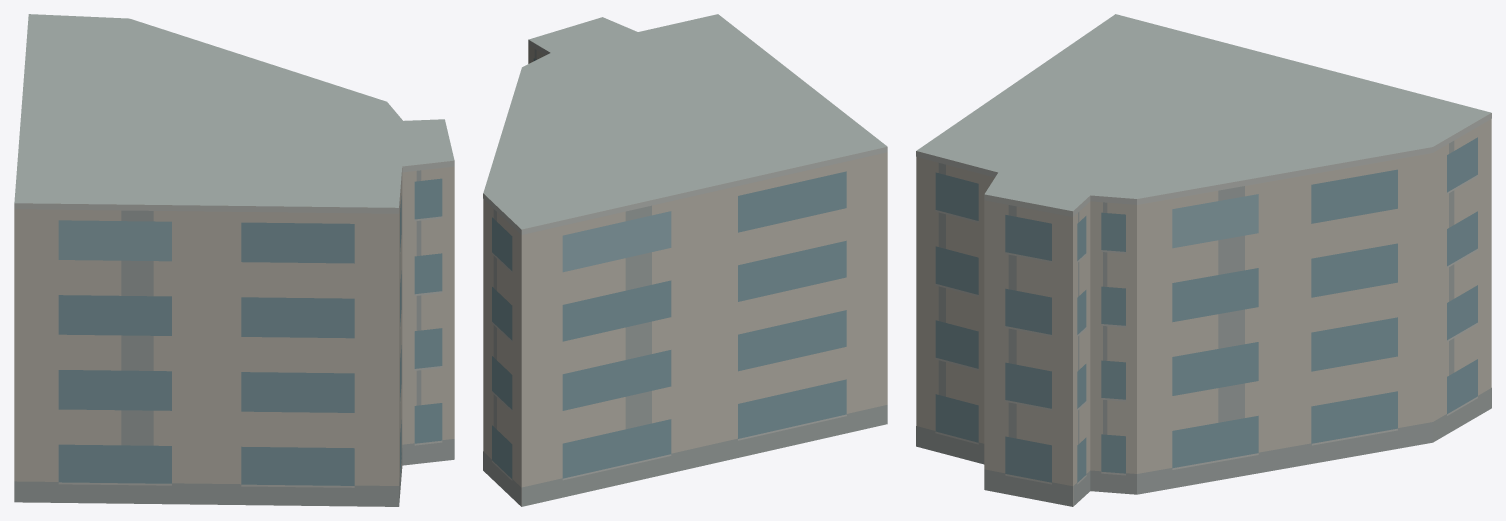
File: residential-b06a9105-7df7-4e46-be45-a9b2f067f87c.glb
3 views of the same model, side by side, from view 1: azimuth 30°, elevation 25°; view 2: azimuth 150°, elevation 25°; view 3: azimuth 270°, elevation 25° (orthographic). The views are drawn at different scales.
Parts seen in each view (by area): view 1: residential-b06a9105-7df7-4e46-be45-a9b2f067f87c.tmp; view 2: residential-b06a9105-7df7-4e46-be45-a9b2f067f87c.tmp; view 3: residential-b06a9105-7df7-4e46-be45-a9b2f067f87c.tmp.
Boxes of the visible parts, left/top/right/bottom form: residential-b06a9105-7df7-4e46-be45-a9b2f067f87c.tmp: left=14, top=14, right=454, bottom=506; residential-b06a9105-7df7-4e46-be45-a9b2f067f87c.tmp: left=483, top=14, right=887, bottom=506; residential-b06a9105-7df7-4e46-be45-a9b2f067f87c.tmp: left=916, top=14, right=1491, bottom=506.
Bounding box in the file's own units: 17.47 × 12.2 × 21.54.
